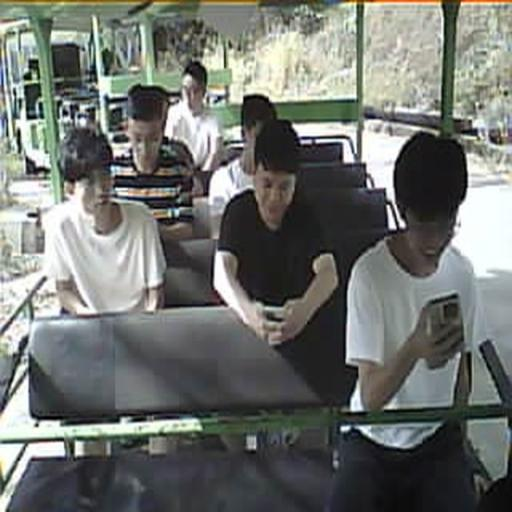persona: (331, 130, 487, 511), (212, 117, 340, 401), (42, 122, 168, 316), (108, 82, 202, 210), (208, 93, 278, 207), (163, 60, 225, 174)
